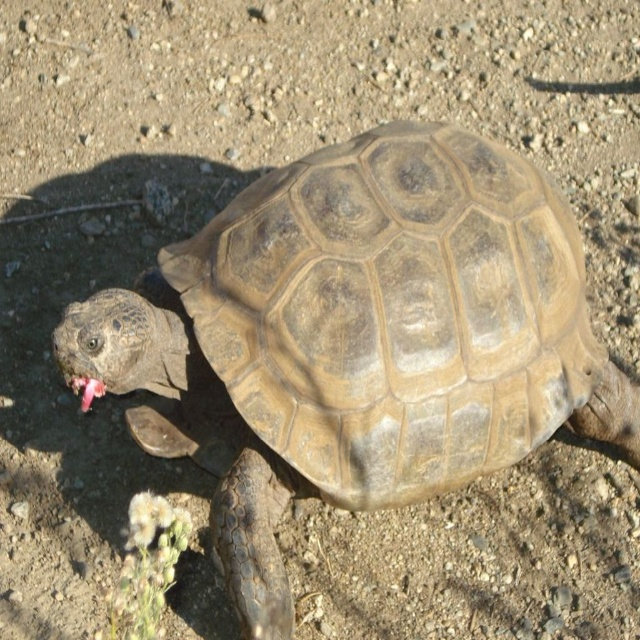Sea turtle: (49, 113, 640, 639)
